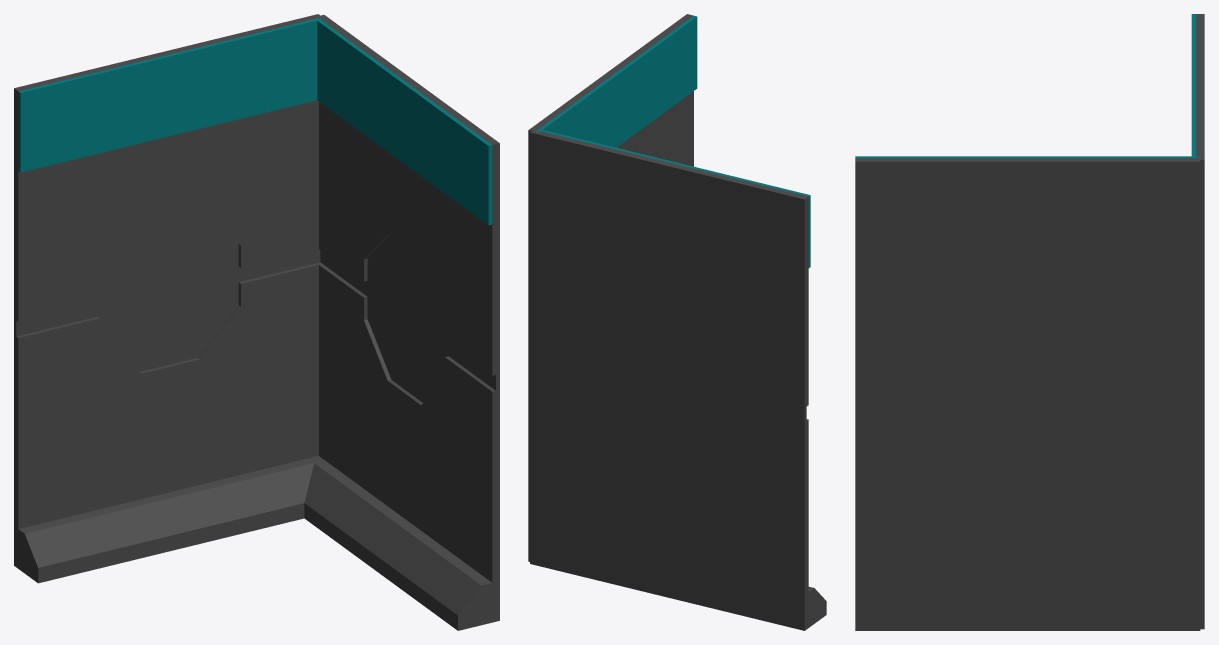
Rendered from Wall2.glb.
3 renders of one model, left to right at view 1: azimuth 30°, elevation 25°; view 2: azimuth 150°, elevation 25°; view 3: azimuth 270°, elevation 25°, orthographic. The views are drawn at different scales.
Visible parts, largest first — view 1: Wall.001, Wall, Wall_Panel, Triangle_Connecter, Wall_Panel.001, Triangle_Connecter.001; view 2: Wall.001, Wall_Panel.001, Wall, Wall_Panel, Triangle_Connecter; view 3: Wall, Wall.001, Wall_Panel, Wall_Panel.001.
Boxes of the visible parts, left/top/right/bottom form: Wall.001: left=14, top=14, right=321, bottom=566; Wall: left=317, top=15, right=499, bottom=622; Wall_Panel: left=18, top=17, right=324, bottom=172; Triangle_Connecter: left=16, top=456, right=324, bottom=583; Wall_Panel.001: left=316, top=17, right=492, bottom=225; Triangle_Connecter.001: left=304, top=457, right=492, bottom=630; Wall.001: left=530, top=131, right=808, bottom=630; Wall_Panel.001: left=536, top=15, right=697, bottom=147; Wall: left=528, top=14, right=693, bottom=561; Wall_Panel: left=539, top=129, right=810, bottom=267; Triangle_Connecter: left=806, top=586, right=826, bottom=627; Wall: left=855, top=158, right=1200, bottom=630; Wall.001: left=1196, top=14, right=1204, bottom=629; Wall_Panel: left=1191, top=14, right=1195, bottom=157; Wall_Panel.001: left=855, top=156, right=1200, bottom=157.
Size of the model in its own units: 4.05 by 6 by 4.05.
